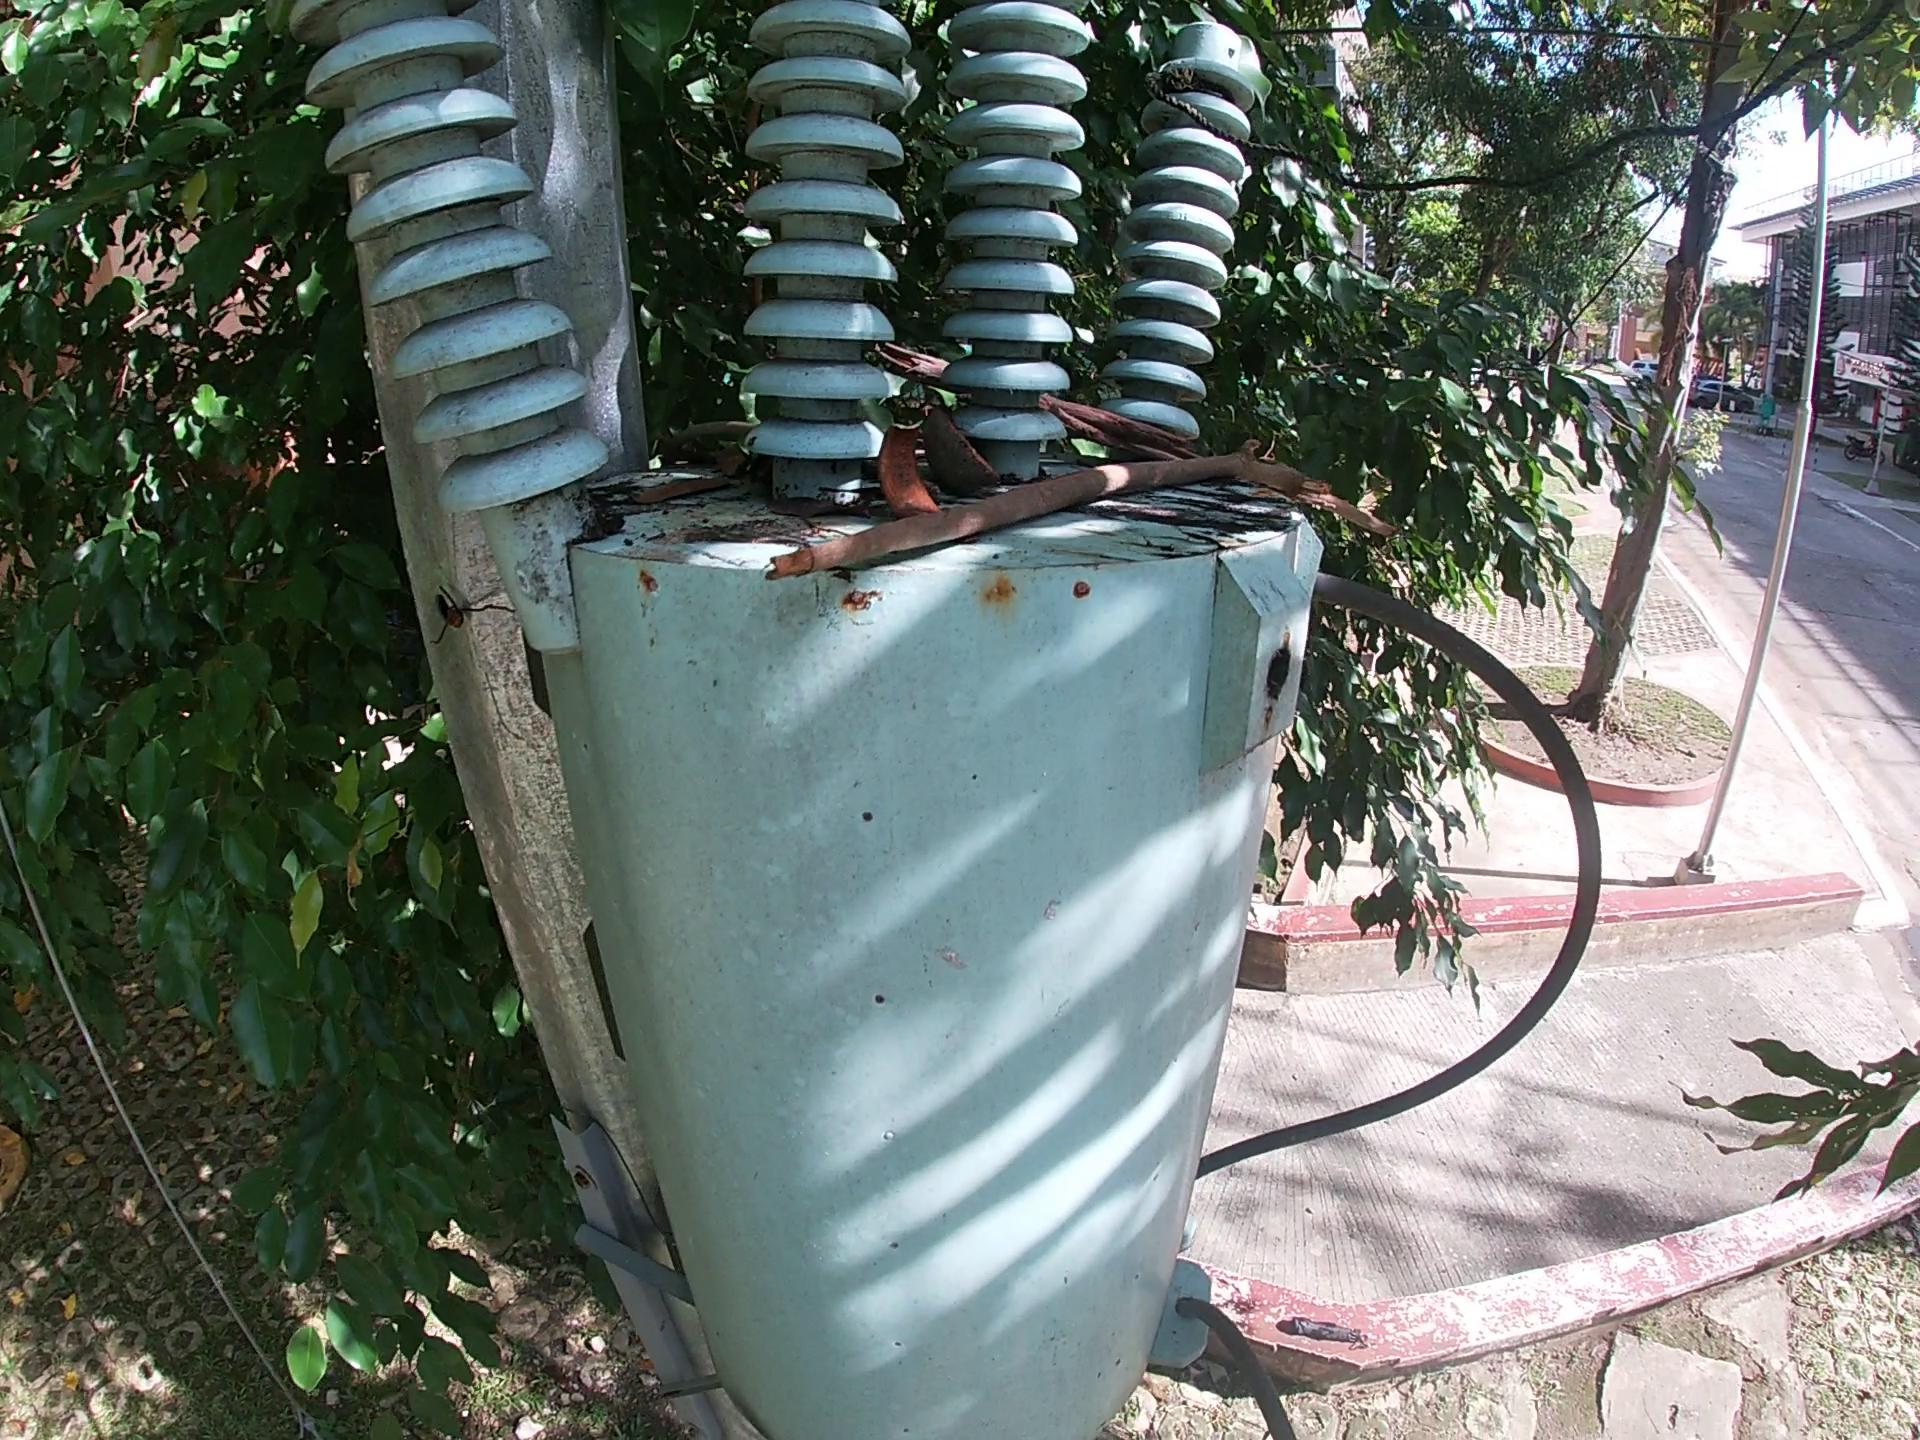leaf: (618, 470, 736, 514)
mahogany fruit: (919, 404, 996, 495), (874, 422, 940, 513)
tree branch: (754, 439, 1420, 594), (868, 339, 1212, 467), (659, 421, 762, 467)
